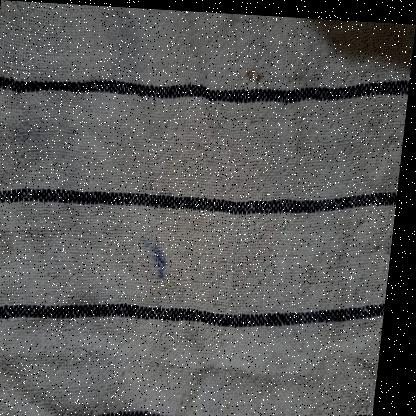spot: (8, 106, 48, 155), (141, 233, 179, 282), (241, 59, 266, 86), (336, 413, 361, 416)
